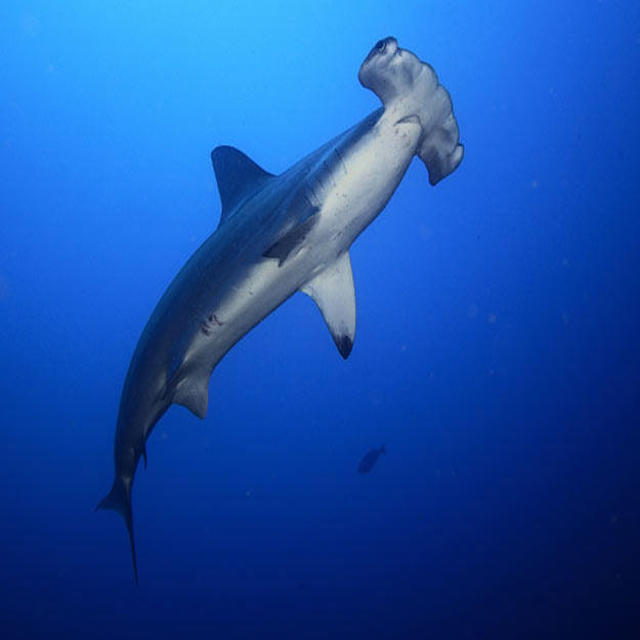hammerhead: (341, 4, 480, 205)
